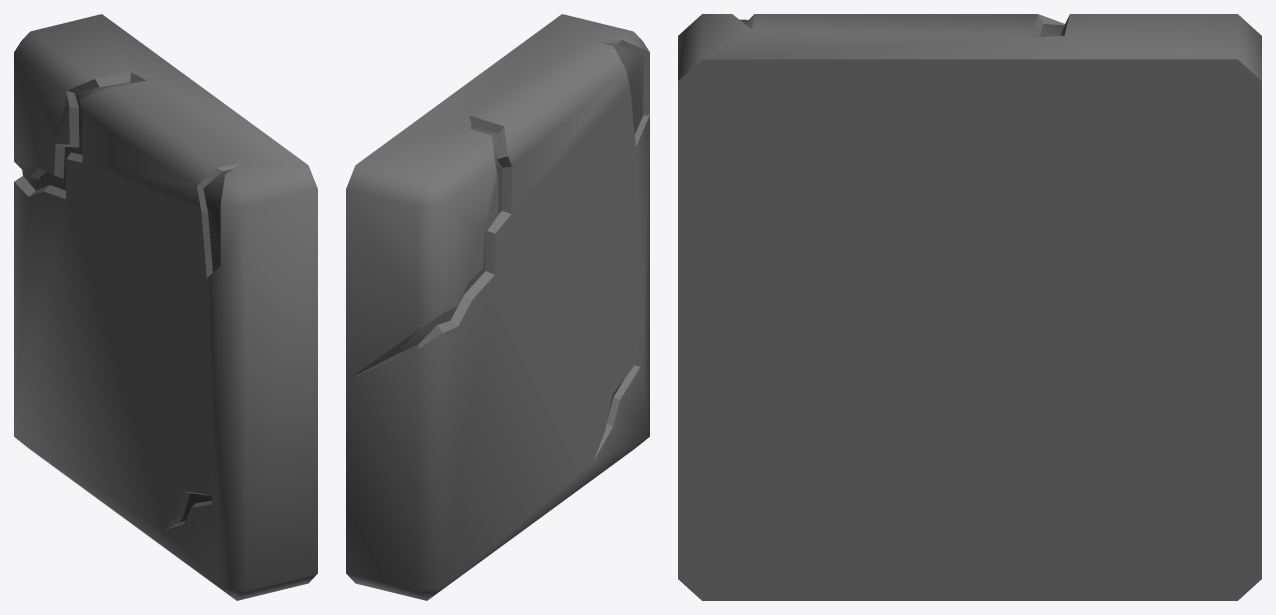
File: Table_1_3.glb
The picture shows the model from 3 angles, left to right: view 1: azimuth 30°, elevation 25°; view 2: azimuth 150°, elevation 25°; view 3: azimuth 270°, elevation 25°; orthographic projection. The views are drawn at different scales.
Visible parts, largest first — view 1: Table_1_3; view 2: Table_1_3; view 3: Table_1_3.
Part boxes in pixels (x1,y1,x2,y2): Table_1_3: [14, 14, 317, 600]; Table_1_3: [346, 14, 649, 600]; Table_1_3: [678, 14, 1261, 600].
Bounding box in the file's own units: 0.0894 × 0.4067 × 0.3972.
Materials: 1 (1 with a texture image).
